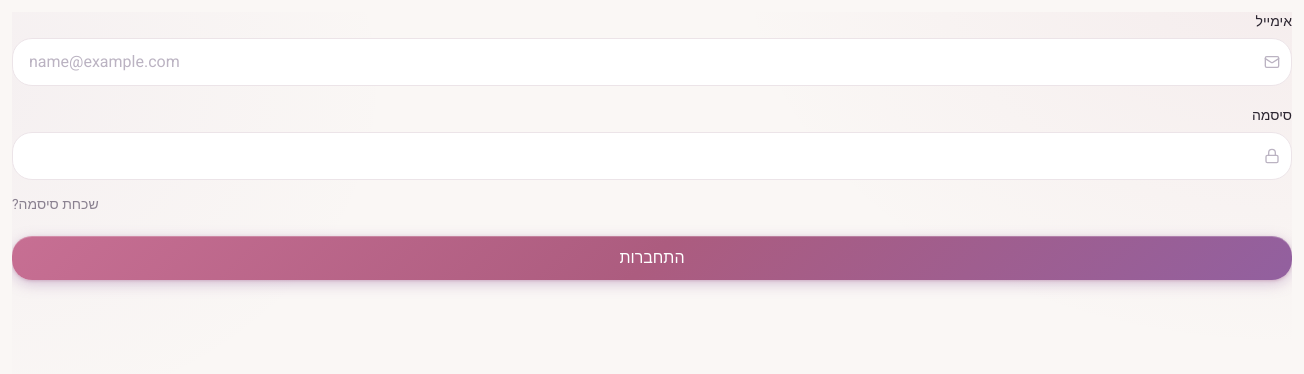
Scenario: LoginForm › hides the form error as soon as the user starts editing again
The image size is (1304, 374).
Click the button "התחברות": (652, 258) [12,236,1292,280]
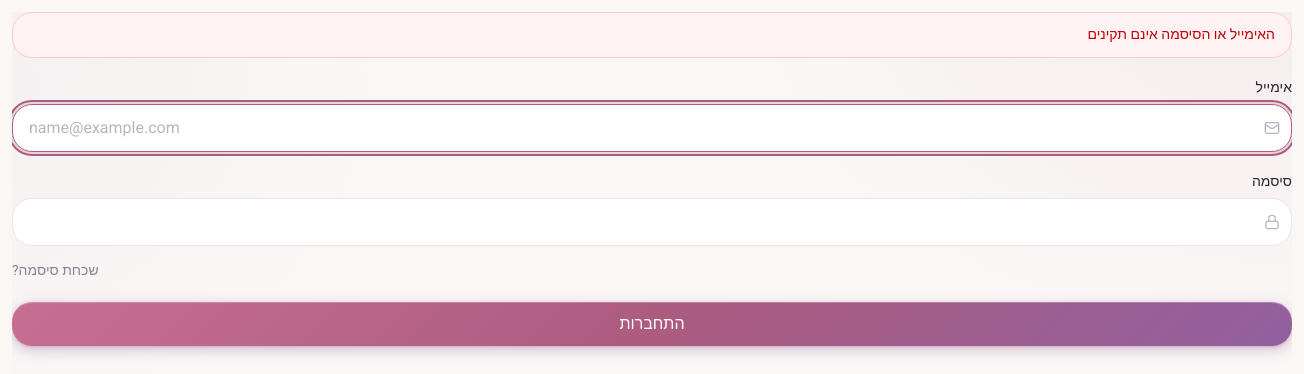
Now the text "האימייל או הסיסמה אינם תקינים" is shown, box [12,12,1292,58]
In the field labelled "אימייל": (652, 128) [12,104,1292,152], type "x"
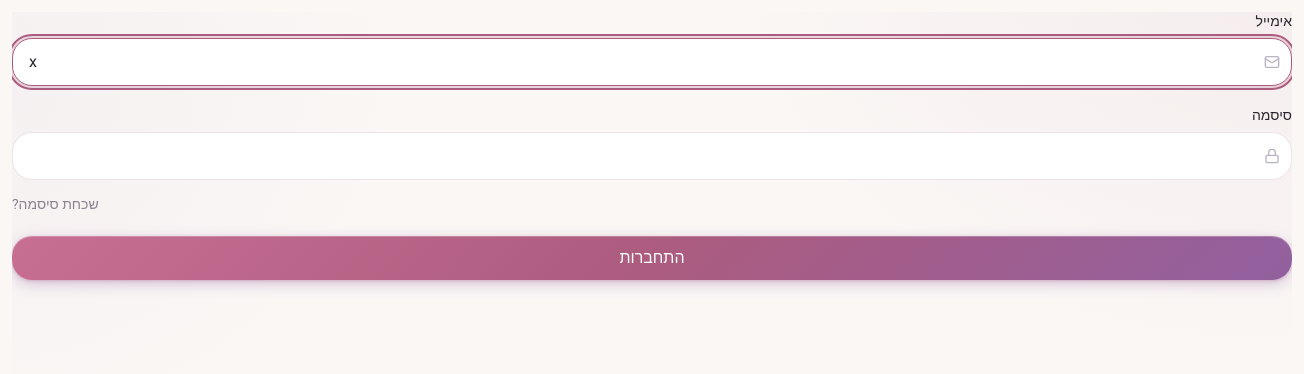
Now the text "האימייל או הסיסמה אינם תקינים" is gone
